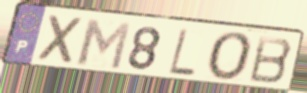8: (128, 26, 163, 71)
B: (247, 34, 295, 86)
L: (167, 26, 197, 78)
M: (75, 16, 133, 71)
O: (206, 30, 256, 83)
X: (36, 13, 87, 67)
